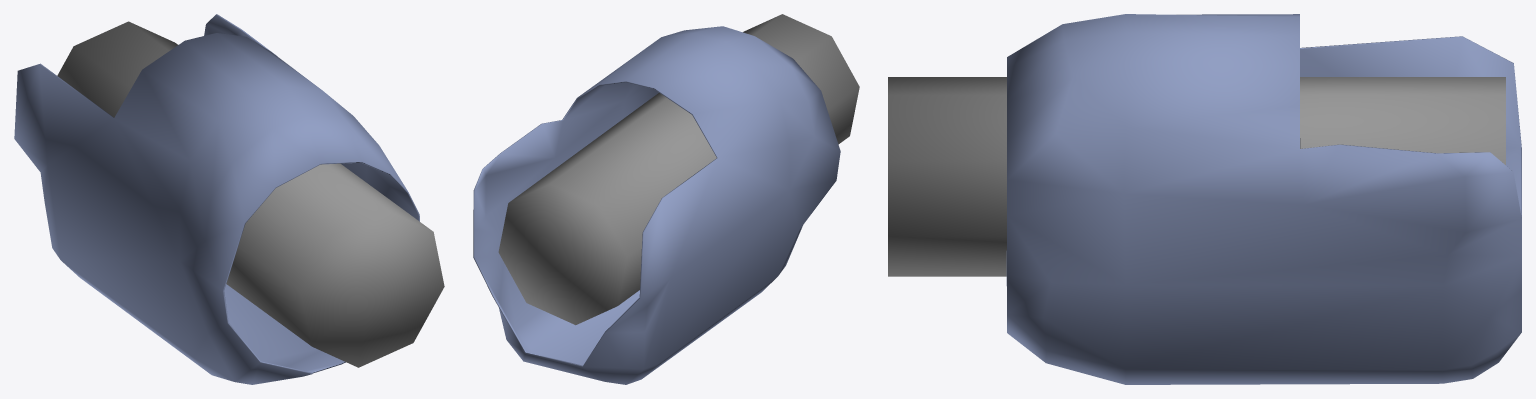
Rendered from icub_simple_r_arm.dae.
3 views of the same model, side by side, from view 1: azimuth 30°, elevation 25°; view 2: azimuth 150°, elevation 25°; view 3: azimuth 270°, elevation 25° (orthographic). The views are drawn at different scales.
Visible parts, largest first — view 1: r_arm_mesh; view 2: r_arm_mesh; view 3: r_arm_mesh.
Part boxes in pixels (x1,y1,x2,y2): r_arm_mesh: (14,14,444,384); r_arm_mesh: (473,14,859,384); r_arm_mesh: (888,14,1521,384).
Bounding box in the file's own units: 0.0712 × 0.0911 × 0.16.
